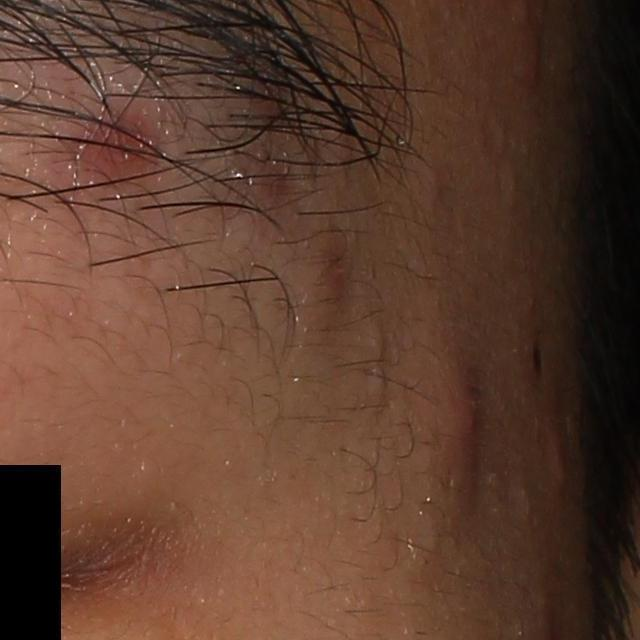comedo: (366, 327, 388, 362)
